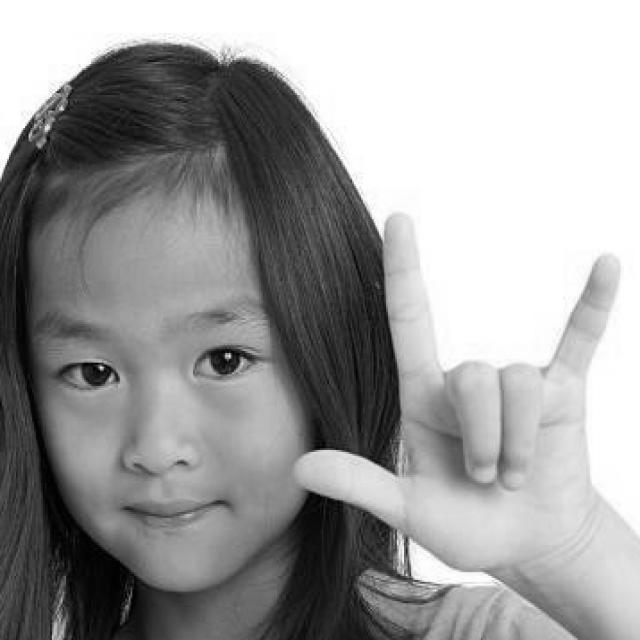i love you: (286, 202, 628, 603)
